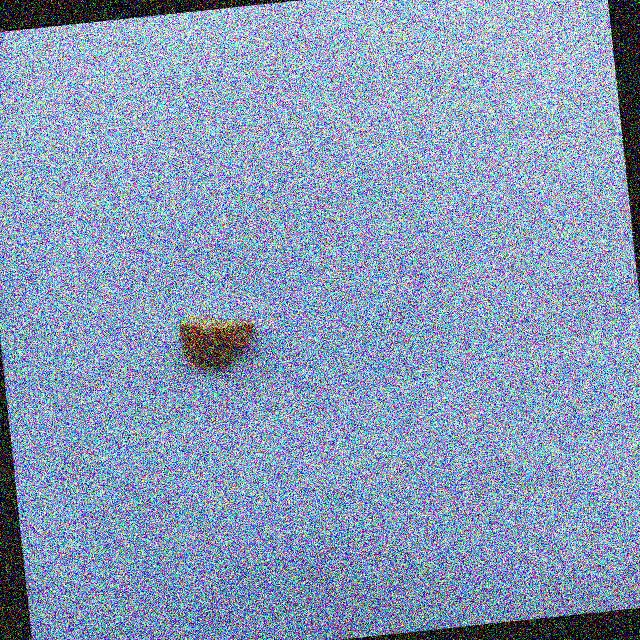grade4: (171, 305, 268, 377)
